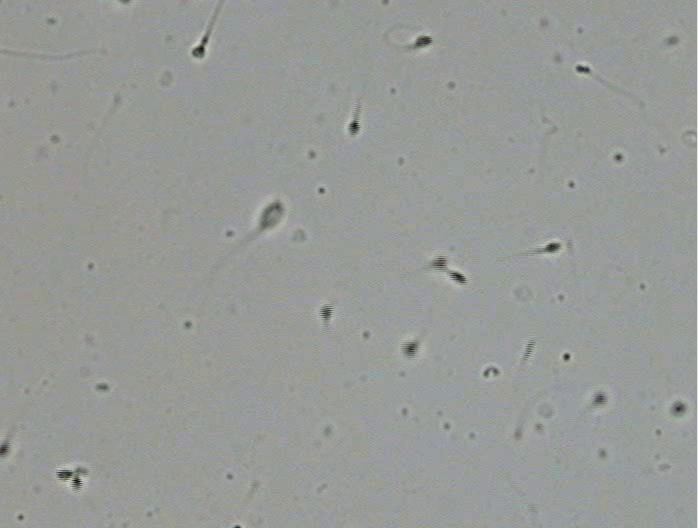S: (260, 201, 283, 230), (401, 341, 417, 357), (448, 269, 465, 284), (319, 304, 333, 321), (415, 35, 433, 48), (55, 469, 73, 481), (432, 256, 447, 270), (671, 402, 686, 415), (70, 477, 82, 493), (544, 242, 561, 253), (348, 120, 360, 135), (192, 45, 205, 58), (575, 64, 591, 74), (594, 393, 606, 406), (1, 443, 9, 456)
